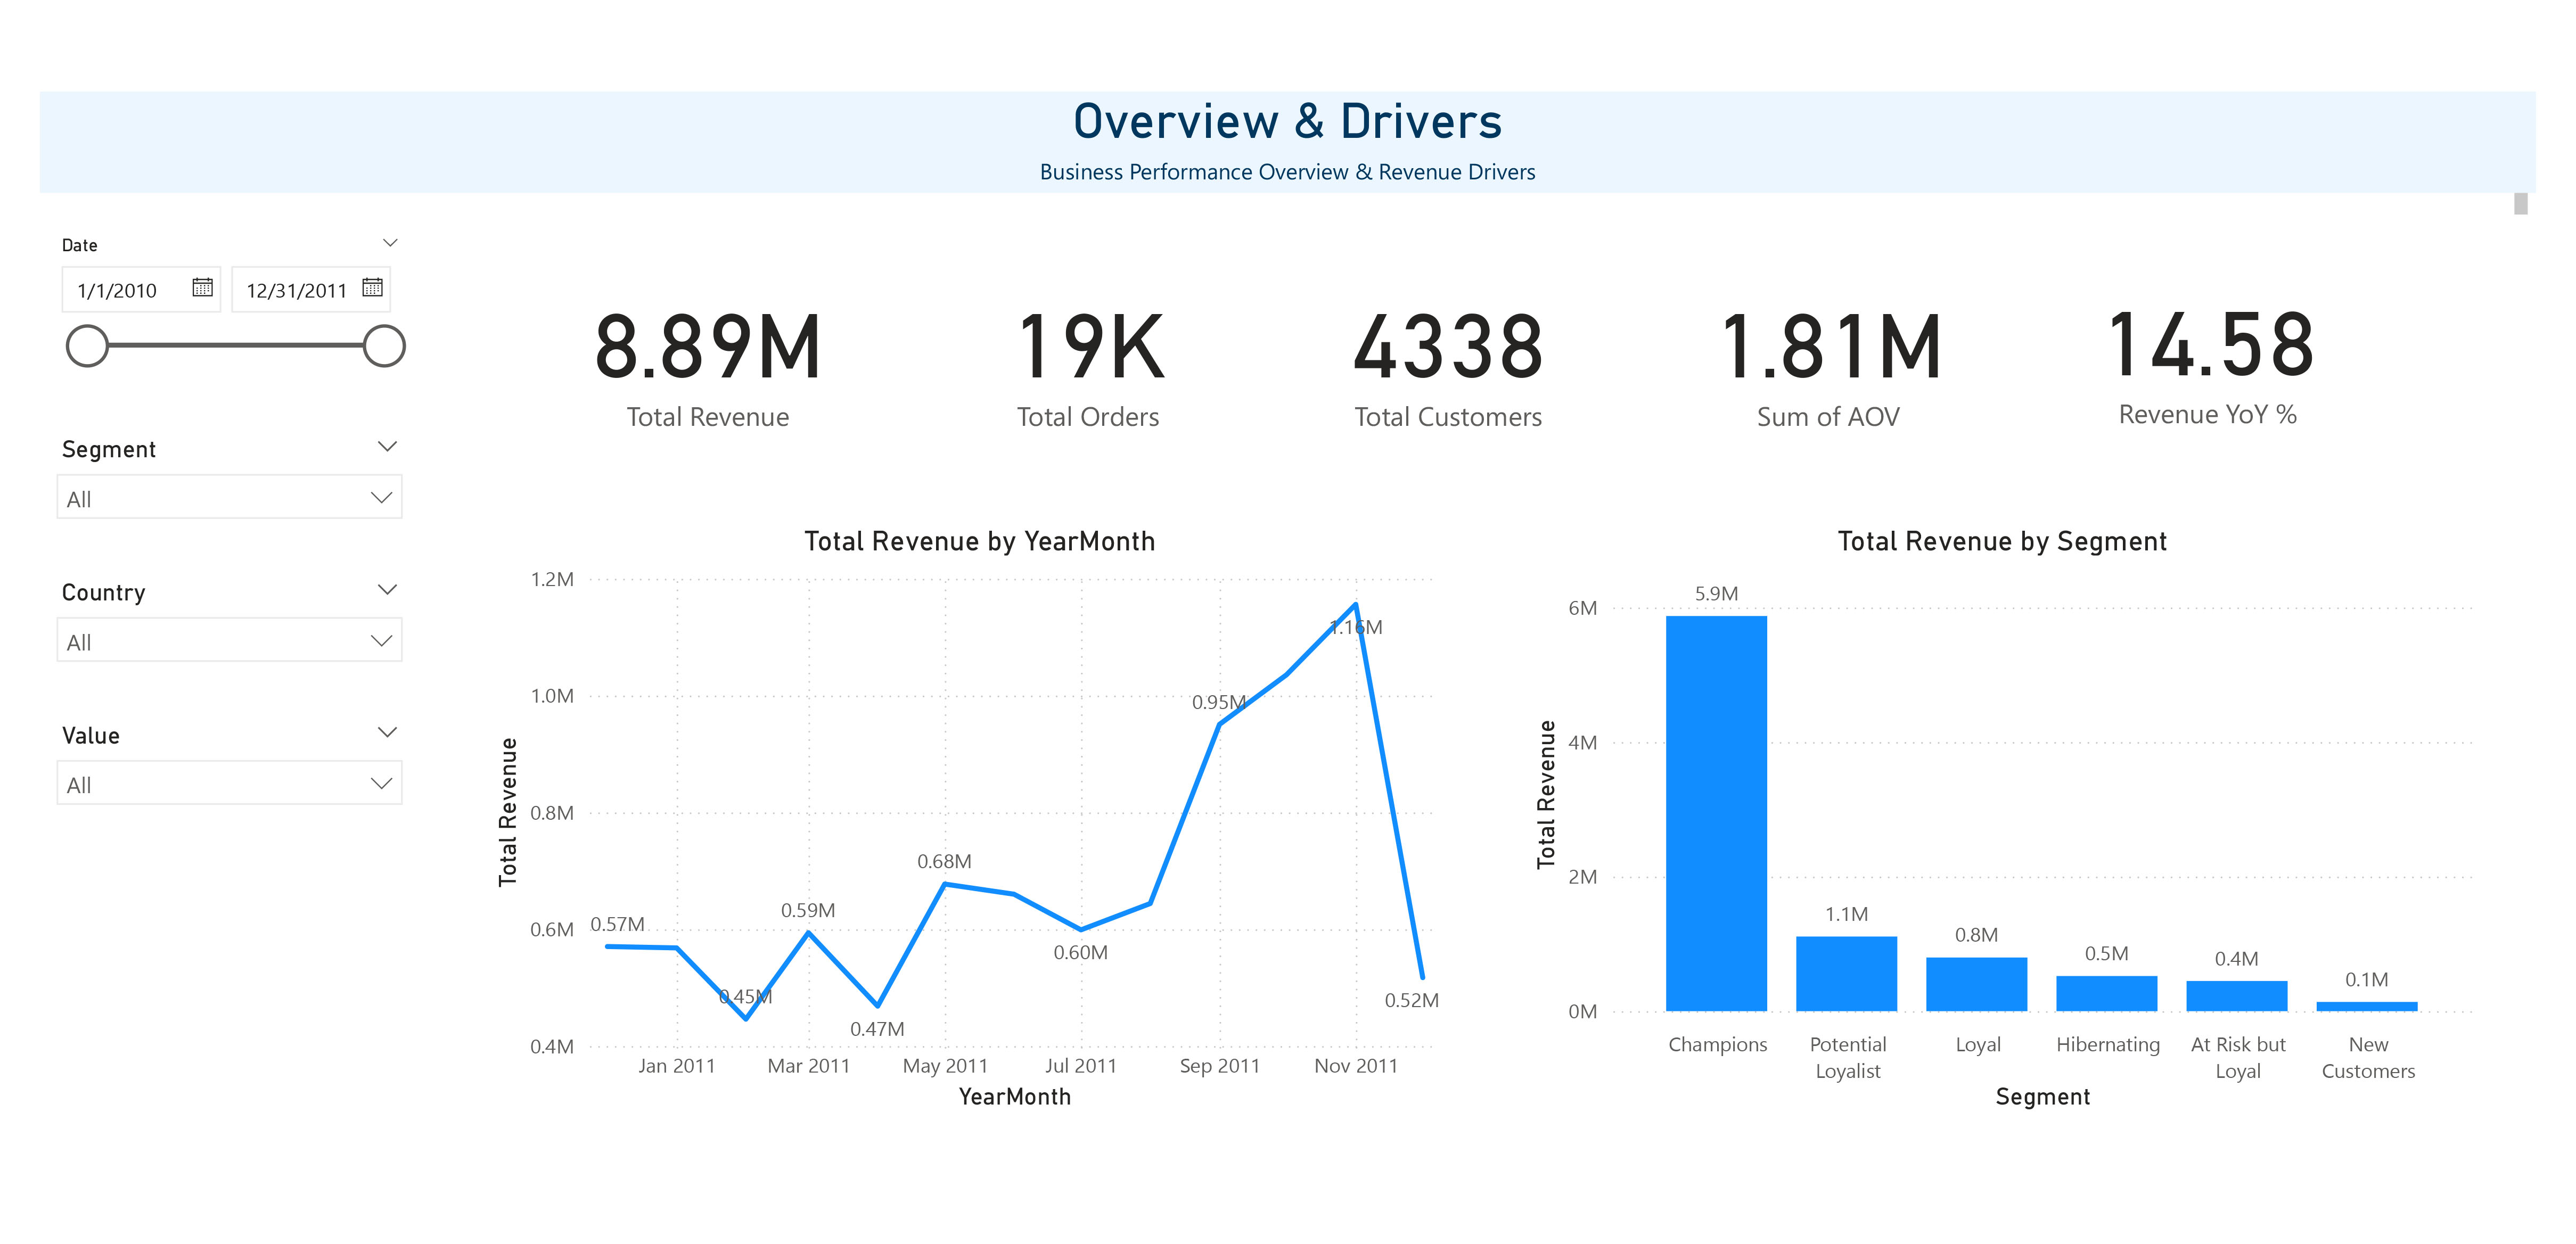

The dashboard page shown, as its layout file describes it:
{"tool":"powerbi","page":{"name":"Page 1","canvas":[1500,700],"ordinal":0},"visuals":[{"type":"slicer","fields":{"Values":["Date.Date"]},"box":[0,112.2,228.3,114.2],"z":0},{"type":"slicer","fields":{"Values":["rfm_scores.Segment"]},"box":[0,233.5,228.5,85.7],"z":1},{"type":"slicer","fields":{"Values":["online_retail_clean.Country"]},"box":[0,319.2,228.5,85.7],"z":2},{"type":"slicer","fields":{"Values":["TopN.Value"]},"box":[0,404.8,228.5,85.7],"z":3},{"type":"textbox","title":"Overview & Drivers","box":[0,31.5,1500,78.7],"z":4},{"type":"card","fields":{"Values":["_Measures.Total Revenue"]},"box":[287.2,112.5,228.5,149.5],"z":5},{"type":"card","fields":{"Values":["_Measures.Total Orders"]},"box":[515.7,112.5,228.5,149.5],"z":6},{"type":"card","fields":{"Values":["_Measures.Total Customers"]},"box":[732.4,112.5,228.5,149.5],"z":7},{"type":"card","fields":{"Values":["Sum(rfm_scores.AOV)"]},"box":[960.8,112.5,228.5,149.5],"z":8},{"type":"card","fields":{"Values":["_Measures.Revenue YoY %"]},"box":[1189,110.2,228.3,151.6],"z":9},{"type":"lineChart","fields":{"Category":["Date.YearMonth"],"Y":["_Measures.Total Revenue"]},"box":[267.7,291.3,594.5,356.3],"z":10},{"type":"clusteredColumnChart","fields":{"Category":["rfm_scores.Segment"],"Y":["_Measures.Total Revenue"]},"box":[891.7,291.3,574.8,356.3],"z":11}]}

Visuals, with their boxes on the page's 1500x700 design canvas (x1, y1, x2, y2). These are canvas units, not pixel positions in the 2576x1244 screenshot, which may show the page scaled, cropped or inside an application window:
slicer - Date.Date: {"left": 0, "top": 112, "right": 228, "bottom": 226}
slicer - rfm_scores.Segment: {"left": 0, "top": 234, "right": 228, "bottom": 319}
slicer - online_retail_clean.Country: {"left": 0, "top": 319, "right": 228, "bottom": 405}
slicer - TopN.Value: {"left": 0, "top": 405, "right": 228, "bottom": 490}
"Overview & Drivers" textbox: {"left": 0, "top": 32, "right": 1500, "bottom": 110}
card - _Measures.Total Revenue: {"left": 287, "top": 112, "right": 516, "bottom": 262}
card - _Measures.Total Orders: {"left": 516, "top": 112, "right": 744, "bottom": 262}
card - _Measures.Total Customers: {"left": 732, "top": 112, "right": 961, "bottom": 262}
card - Sum(rfm_scores.AOV): {"left": 961, "top": 112, "right": 1189, "bottom": 262}
card - _Measures.Revenue YoY %: {"left": 1189, "top": 110, "right": 1417, "bottom": 262}
lineChart - Date.YearMonth x _Measures.Total Revenue: {"left": 268, "top": 291, "right": 862, "bottom": 648}
clusteredColumnChart - rfm_scores.Segment x _Measures.Total Revenue: {"left": 892, "top": 291, "right": 1466, "bottom": 648}
